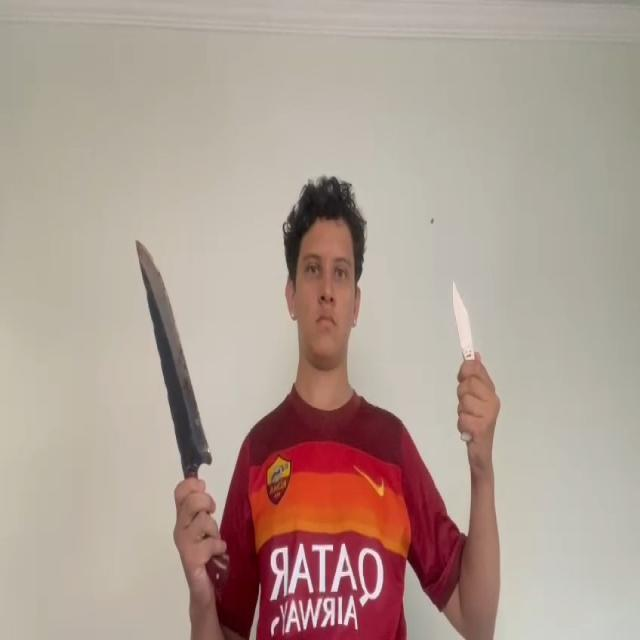knife: (134, 237, 213, 466), (452, 280, 474, 352)
